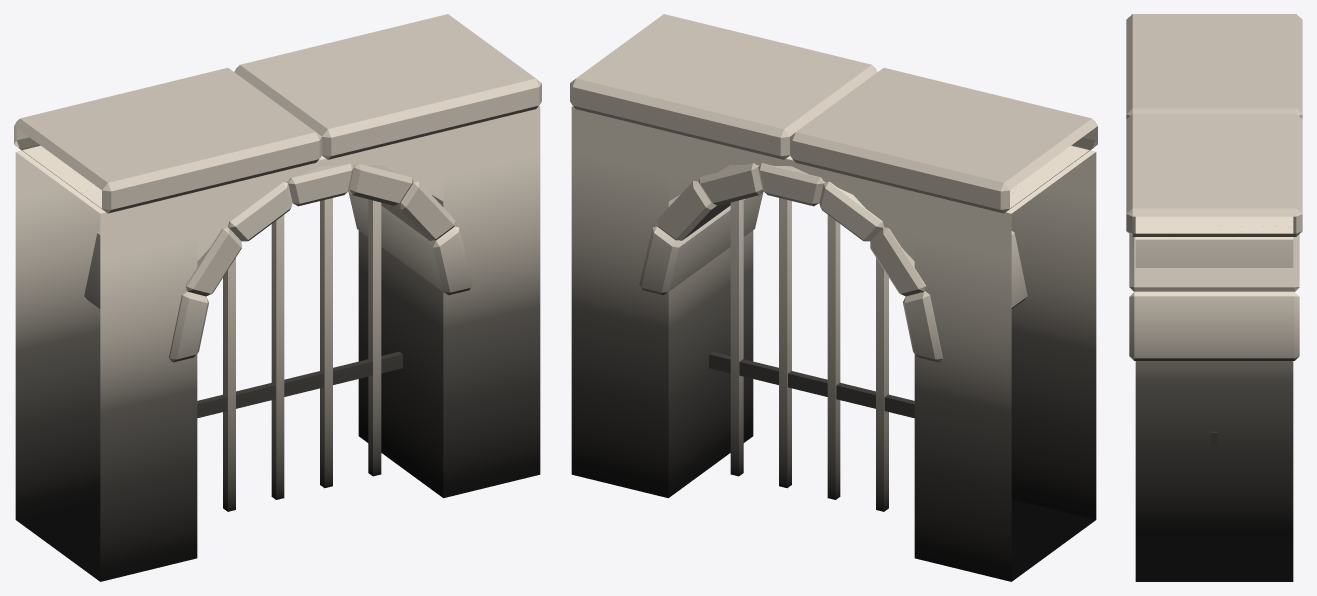
The model's file is SM_VKI_Wall_Sewer_Culvert_150_Cut.fbx.
3 renders of one model, left to right at view 1: azimuth 30°, elevation 25°; view 2: azimuth 150°, elevation 25°; view 3: azimuth 270°, elevation 25°, orthographic. The views are drawn at different scales.
Parts seen in each view (by area): view 1: SM_VKI_Wall_Sewer_Culvert_150_Cut.001; view 2: SM_VKI_Wall_Sewer_Culvert_150_Cut.001; view 3: SM_VKI_Wall_Sewer_Culvert_150_Cut.001.
Boxes of the visible parts, box(x1,y1,x2,y2) form: SM_VKI_Wall_Sewer_Culvert_150_Cut.001: box(14, 14, 541, 581); SM_VKI_Wall_Sewer_Culvert_150_Cut.001: box(570, 14, 1097, 581); SM_VKI_Wall_Sewer_Culvert_150_Cut.001: box(1126, 14, 1302, 581).
Bounding box in the file's own units: 1.5 × 1.3 × 0.56.
